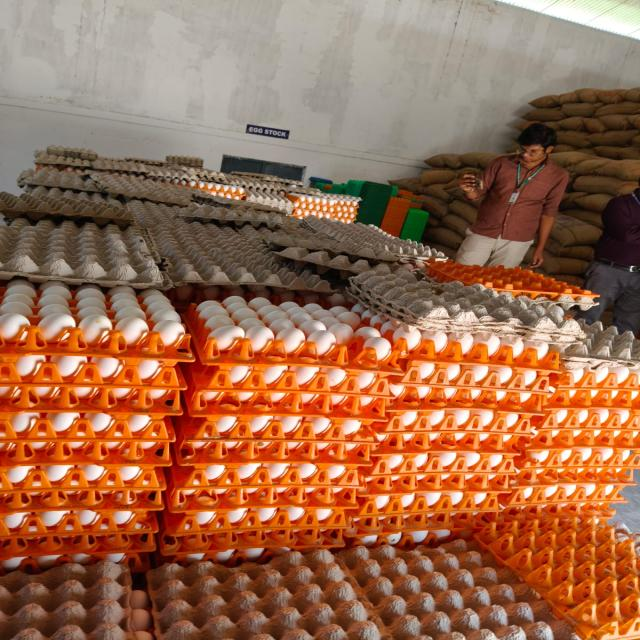egg_tray: (187, 296, 557, 414), (148, 541, 572, 640), (354, 332, 558, 535), (186, 296, 558, 389), (411, 333, 558, 511), (373, 332, 557, 472), (0, 281, 189, 414), (0, 413, 172, 555), (165, 416, 372, 533), (187, 296, 388, 414), (337, 540, 572, 640), (166, 474, 497, 541), (353, 408, 531, 532), (0, 347, 185, 464), (148, 551, 378, 640), (370, 319, 559, 426), (476, 518, 639, 638), (148, 551, 366, 640), (507, 366, 639, 512), (161, 460, 359, 554), (190, 364, 372, 464), (353, 304, 559, 392), (162, 462, 358, 554), (348, 269, 583, 344), (185, 294, 401, 373), (0, 278, 192, 365), (0, 460, 164, 559), (0, 411, 173, 504), (370, 317, 559, 401), (349, 441, 515, 536), (501, 407, 639, 517), (176, 389, 374, 465), (388, 331, 556, 413), (149, 218, 332, 293), (0, 464, 161, 548), (187, 363, 362, 438), (161, 487, 352, 555), (362, 290, 582, 346), (167, 450, 358, 512), (0, 218, 166, 288), (0, 486, 157, 560), (0, 486, 159, 559), (0, 562, 147, 640), (187, 364, 390, 420), (0, 354, 186, 414), (361, 443, 516, 514), (186, 365, 389, 419), (185, 351, 390, 404), (175, 414, 376, 466), (349, 473, 512, 537), (166, 467, 357, 521), (167, 460, 361, 513), (175, 414, 375, 465), (407, 330, 561, 394), (0, 412, 175, 467), (188, 294, 359, 350), (166, 473, 357, 522), (366, 430, 521, 489), (0, 278, 179, 329), (348, 268, 494, 330), (242, 226, 387, 288), (184, 441, 370, 488), (198, 296, 357, 350), (0, 460, 165, 512), (517, 410, 639, 480), (426, 258, 596, 308), (243, 228, 402, 281), (169, 242, 333, 293), (165, 487, 354, 531), (0, 279, 179, 324), (370, 407, 535, 455), (163, 506, 351, 548), (0, 460, 165, 506), (0, 467, 165, 513), (499, 462, 634, 518), (474, 517, 630, 564), (0, 509, 157, 555), (499, 465, 635, 516), (158, 524, 345, 561), (305, 217, 445, 266), (0, 412, 174, 449), (372, 404, 541, 442), (243, 223, 398, 264), (167, 283, 336, 320), (0, 532, 156, 572), (345, 507, 495, 548), (371, 406, 541, 441), (345, 509, 492, 548), (175, 439, 371, 468), (187, 416, 326, 455), (516, 438, 639, 482), (499, 479, 631, 520), (18, 156, 147, 196), (207, 436, 368, 468), (0, 190, 132, 228), (3, 387, 181, 415), (527, 407, 639, 450), (19, 151, 146, 186), (547, 363, 639, 411), (473, 498, 615, 529), (0, 184, 127, 218), (18, 153, 148, 186), (0, 549, 149, 576), (82, 162, 183, 201), (563, 320, 639, 369), (89, 172, 193, 206), (563, 321, 639, 367), (274, 248, 382, 280), (162, 203, 294, 228), (25, 186, 130, 217), (148, 167, 245, 199), (572, 320, 639, 366), (18, 156, 99, 194), (202, 198, 301, 229), (82, 159, 156, 199), (34, 145, 145, 171), (155, 546, 289, 567), (127, 200, 173, 259), (171, 191, 263, 219), (227, 178, 293, 214), (193, 190, 290, 214), (18, 164, 100, 192), (285, 193, 359, 223), (222, 172, 320, 193), (143, 162, 225, 187), (146, 166, 231, 190), (224, 202, 301, 228), (220, 174, 294, 201), (220, 175, 294, 201), (203, 298, 257, 331), (211, 172, 291, 194), (171, 178, 245, 200), (291, 312, 335, 343), (278, 329, 334, 352), (389, 395, 426, 429), (245, 187, 292, 213), (292, 205, 357, 223), (93, 158, 148, 179), (34, 145, 98, 162), (163, 154, 206, 170), (123, 156, 165, 172), (78, 464, 113, 479), (281, 320, 306, 340), (344, 432, 370, 450), (81, 323, 104, 343), (364, 380, 388, 399), (330, 420, 362, 433), (510, 377, 536, 392), (203, 225, 239, 235), (132, 204, 156, 219), (366, 380, 387, 397), (251, 320, 272, 335), (337, 308, 356, 322), (184, 445, 197, 464), (335, 322, 353, 335), (324, 335, 337, 352), (266, 366, 287, 376), (312, 418, 331, 429), (43, 323, 56, 339), (493, 387, 508, 400), (401, 483, 417, 495), (190, 404, 211, 413), (225, 184, 243, 194), (19, 170, 32, 182), (260, 540, 286, 546), (254, 340, 268, 351), (279, 229, 297, 237), (287, 340, 299, 352), (379, 324, 392, 335), (238, 464, 252, 474), (410, 368, 419, 383), (536, 555, 548, 566), (184, 454, 197, 464), (443, 377, 457, 386), (265, 464, 277, 474), (214, 370, 227, 379), (514, 563, 530, 570), (307, 304, 321, 312), (219, 552, 235, 559), (187, 371, 193, 389), (3, 493, 11, 506), (205, 466, 217, 474), (263, 208, 282, 213), (200, 390, 218, 395), (611, 409, 629, 414), (247, 342, 258, 350), (142, 614, 150, 625), (123, 468, 135, 475), (301, 450, 313, 457), (429, 474, 441, 481), (273, 450, 282, 459), (389, 498, 399, 506), (324, 311, 334, 319), (407, 474, 417, 482), (137, 202, 153, 207), (156, 209, 167, 216), (161, 189, 176, 194), (362, 372, 374, 378), (283, 302, 295, 308), (245, 553, 257, 559), (81, 346, 91, 353), (484, 289, 494, 296), (599, 409, 609, 416), (338, 416, 348, 423), (28, 548, 39, 554), (361, 372, 374, 377), (300, 331, 305, 344), (251, 332, 267, 336), (417, 478, 425, 486), (355, 420, 362, 429), (273, 341, 282, 348), (129, 332, 135, 342), (348, 422, 354, 432), (282, 344, 286, 358), (222, 390, 233, 395), (138, 546, 149, 551), (14, 468, 23, 474), (42, 468, 51, 474), (83, 466, 92, 472), (457, 410, 470, 414), (247, 554, 257, 559), (412, 372, 419, 379), (18, 470, 25, 477), (404, 495, 412, 501), (416, 474, 425, 479), (12, 468, 23, 472), (375, 319, 381, 326), (403, 377, 410, 383), (278, 330, 283, 338), (117, 540, 125, 545), (539, 457, 547, 462), (515, 459, 521, 465), (367, 381, 373, 387), (271, 320, 277, 326), (76, 545, 82, 551), (497, 394, 503, 400), (278, 311, 285, 316), (249, 428, 252, 439), (570, 450, 578, 454), (394, 434, 402, 438), (124, 468, 130, 473), (490, 514, 495, 520), (402, 380, 412, 383), (269, 410, 279, 413), (373, 423, 379, 428), (264, 417, 268, 424), (201, 318, 208, 322), (313, 190, 320, 194), (269, 410, 278, 413), (261, 432, 270, 435), (176, 323, 181, 328), (390, 385, 395, 390), (230, 366, 235, 371), (340, 296, 343, 304), (15, 496, 19, 502), (121, 323, 127, 327), (191, 307, 197, 311), (181, 528, 187, 532), (497, 438, 501, 444), (387, 345, 390, 353), (400, 458, 404, 464), (396, 270, 407, 272), (159, 204, 170, 206), (354, 307, 361, 310), (366, 372, 373, 375), (232, 240, 239, 243), (219, 482, 226, 485), (209, 335, 216, 338), (405, 469, 412, 472), (313, 393, 318, 397), (215, 372, 220, 376), (222, 370, 227, 374), (76, 546, 81, 550), (200, 459, 204, 464), (199, 442, 204, 446), (338, 298, 343, 302), (214, 542, 219, 546), (384, 487, 389, 491), (36, 344, 42, 347), (97, 316, 103, 319), (422, 332, 428, 335), (157, 198, 163, 201), (265, 416, 271, 419), (163, 248, 166, 254), (279, 424, 282, 430), (227, 545, 233, 548), (315, 305, 321, 308), (389, 376, 393, 380), (27, 498, 31, 502), (353, 620, 357, 624), (228, 435, 232, 439), (219, 418, 223, 422), (265, 316, 269, 320), (64, 315, 69, 318), (153, 490, 158, 493), (298, 393, 303, 396), (314, 190, 319, 193), (76, 186, 81, 189), (203, 201, 208, 204), (388, 508, 391, 513), (225, 425, 230, 428), (292, 241, 297, 244), (74, 474, 77, 479), (618, 500, 625, 502), (234, 222, 241, 224), (394, 436, 401, 438), (523, 396, 527, 399), (341, 372, 345, 375), (372, 454, 375, 458), (561, 561, 565, 564), (43, 188, 46, 192), (78, 500, 82, 503), (92, 318, 96, 321), (303, 354, 306, 358), (274, 338, 278, 341), (170, 486, 172, 492), (178, 478, 181, 482), (447, 474, 453, 476), (218, 466, 221, 470), (333, 466, 337, 469), (254, 464, 258, 467), (171, 549, 175, 552), (497, 439, 501, 442), (11, 544, 14, 548), (269, 336, 273, 339), (347, 334, 350, 338), (447, 394, 450, 398), (382, 478, 386, 481), (396, 424, 399, 428), (415, 387, 419, 390), (191, 223, 196, 225), (123, 389, 128, 391), (608, 547, 610, 552), (418, 332, 419, 342), (394, 345, 396, 350), (223, 202, 228, 204), (65, 550, 70, 552), (293, 334, 298, 336), (388, 470, 393, 472), (376, 408, 379, 411), (398, 385, 401, 388), (260, 376, 263, 379), (167, 498, 170, 501), (178, 205, 181, 208), (175, 468, 178, 471), (387, 490, 390, 493), (474, 435, 477, 438), (251, 332, 254, 335), (301, 550, 305, 552), (482, 402, 486, 404), (22, 500, 26, 502), (259, 426, 263, 428), (205, 327, 209, 329), (106, 496, 108, 500), (261, 474, 265, 476), (294, 458, 298, 460), (373, 510, 377, 512), (421, 416, 425, 418), (341, 225, 343, 228), (229, 553, 231, 556), (188, 410, 191, 412), (190, 378, 192, 381), (260, 373, 262, 376), (525, 553, 528, 555), (583, 476, 586, 478), (563, 410, 565, 413), (178, 187, 181, 189), (72, 500, 75, 502), (438, 534, 440, 537), (156, 490, 158, 493), (43, 470, 49, 471), (147, 203, 150, 205), (279, 422, 282, 424), (244, 337, 247, 339), (194, 405, 196, 408), (170, 481, 172, 484), (212, 202, 215, 204), (499, 483, 501, 486), (494, 475, 497, 477), (241, 408, 244, 410), (308, 309, 314, 310), (269, 305, 272, 307), (332, 330, 334, 333), (438, 460, 441, 462), (396, 458, 399, 460), (470, 404, 472, 407), (478, 286, 481, 288), (415, 336, 418, 338), (393, 498, 396, 500), (193, 412, 198, 413), (193, 448, 194, 453), (221, 332, 226, 333), (25, 567, 30, 568), (263, 512, 267, 513), (124, 351, 126, 353), (532, 452, 534, 454), (220, 179, 222, 181), (467, 287, 471, 288), (111, 183, 113, 185), (147, 492, 151, 493), (203, 412, 205, 414), (292, 372, 294, 374), (563, 567, 565, 569), (321, 302, 323, 304), (514, 489, 516, 491), (33, 499, 35, 501), (434, 454, 436, 456), (147, 206, 149, 208), (83, 384, 87, 385), (305, 400, 307, 402), (434, 426, 436, 428), (308, 635, 310, 637), (253, 558, 257, 559), (488, 416, 490, 418), (396, 508, 398, 510), (363, 472, 365, 474), (173, 469, 177, 470), (164, 547, 166, 549), (308, 545, 312, 546), (179, 455, 181, 457), (254, 344, 256, 346), (246, 318, 250, 319), (30, 549, 32, 551), (44, 173, 46, 175), (381, 326, 383, 328), (87, 466, 90, 467), (140, 330, 141, 333), (254, 304, 257, 305), (2, 449, 5, 450), (494, 385, 497, 386), (430, 371, 433, 372), (339, 442, 342, 443), (257, 469, 258, 472), (262, 411, 265, 412), (281, 300, 284, 301), (476, 407, 479, 408), (447, 292, 450, 293), (268, 518, 270, 519), (90, 340, 92, 341), (262, 411, 264, 412), (363, 314, 365, 315), (209, 378, 210, 380), (196, 223, 198, 224), (196, 200, 198, 201), (388, 329, 390, 330), (224, 372, 226, 373), (442, 296, 444, 297), (309, 394, 311, 395), (212, 367, 214, 368), (164, 180, 166, 181), (2, 547, 4, 548), (389, 540, 391, 541), (168, 336, 170, 337), (179, 455, 180, 457), (256, 424, 257, 426), (291, 358, 293, 359), (269, 345, 271, 346), (265, 327, 267, 328), (411, 428, 412, 430), (467, 384, 468, 386), (457, 514, 459, 515), (501, 456, 503, 457), (497, 449, 499, 450), (296, 545, 298, 546), (216, 429, 217, 431), (380, 258, 382, 259), (323, 206, 324, 208), (36, 552, 37, 554), (27, 542, 28, 544), (355, 307, 357, 308), (427, 454, 429, 455), (433, 442, 435, 443), (456, 378, 458, 379), (483, 377, 484, 379), (562, 460, 564, 461), (419, 465, 421, 466), (385, 332, 386, 334), (261, 518, 262, 519), (182, 329, 183, 330), (387, 271, 388, 272), (276, 400, 277, 401), (258, 554, 259, 555), (250, 374, 251, 375), (258, 496, 259, 497), (387, 527, 388, 528), (558, 565, 559, 566), (618, 523, 619, 524), (340, 381, 341, 382), (71, 192, 72, 193), (138, 336, 139, 337), (229, 436, 230, 437), (234, 345, 235, 346), (407, 336, 408, 337), (514, 421, 515, 422), (363, 314, 364, 315), (338, 574, 339, 575), (334, 574, 335, 575), (261, 411, 262, 412), (274, 327, 275, 328), (267, 314, 268, 315), (416, 337, 417, 338), (409, 332, 410, 333), (445, 469, 446, 470), (389, 329, 390, 330), (97, 223, 97, 223), (361, 374, 361, 376), (343, 372, 343, 374), (525, 463, 525, 464), (620, 456, 621, 456), (381, 327, 381, 328), (371, 374, 372, 374), (178, 192, 179, 192), (154, 547, 154, 548), (54, 468, 54, 468), (265, 454, 266, 454), (283, 450, 283, 450), (290, 394, 293, 394), (194, 392, 195, 392), (190, 385, 190, 388), (213, 172, 216, 172), (585, 434, 586, 434), (22, 554, 23, 554), (36, 544, 36, 546), (47, 542, 47, 544), (3, 488, 4, 488), (603, 478, 603, 479), (156, 507, 156, 508), (43, 474, 44, 474), (50, 468, 50, 468), (170, 342, 170, 343), (167, 341, 168, 341), (174, 341, 174, 342), (289, 341, 290, 341), (332, 327, 332, 328), (250, 302, 250, 304), (383, 338, 383, 339), (170, 484, 170, 486), (285, 201, 286, 201), (261, 518, 261, 520), (352, 636, 356, 636), (361, 622, 361, 624), (434, 381, 435, 381), (454, 414, 454, 415), (252, 434, 252, 434), (265, 543, 266, 543), (450, 481, 452, 481), (283, 466, 283, 467), (56, 543, 57, 543), (265, 308, 266, 308), (256, 550, 257, 550), (497, 450, 499, 450), (550, 370, 552, 370), (397, 490, 398, 490), (410, 474, 410, 475), (385, 470, 387, 470), (476, 469, 476, 470), (392, 387, 392, 388), (503, 322, 503, 323), (10, 283, 10, 285), (523, 434, 526, 434), (296, 221, 297, 221), (382, 474, 385, 474)
